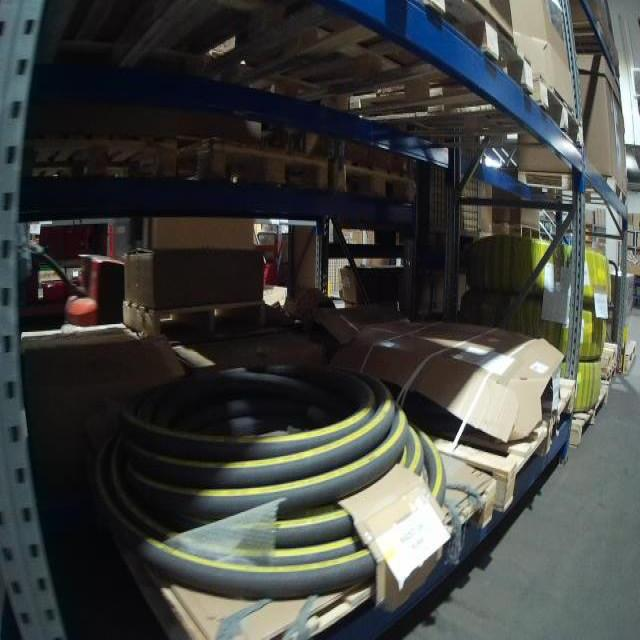pallet: (105, 423, 496, 639), (164, 0, 537, 99), (422, 389, 556, 510), (354, 89, 588, 158), (174, 148, 332, 192), (498, 173, 627, 215), (559, 377, 612, 446), (336, 163, 417, 207), (619, 337, 638, 378)
pallet_truck: (20, 230, 135, 333)
stillage: (420, 162, 494, 245)
